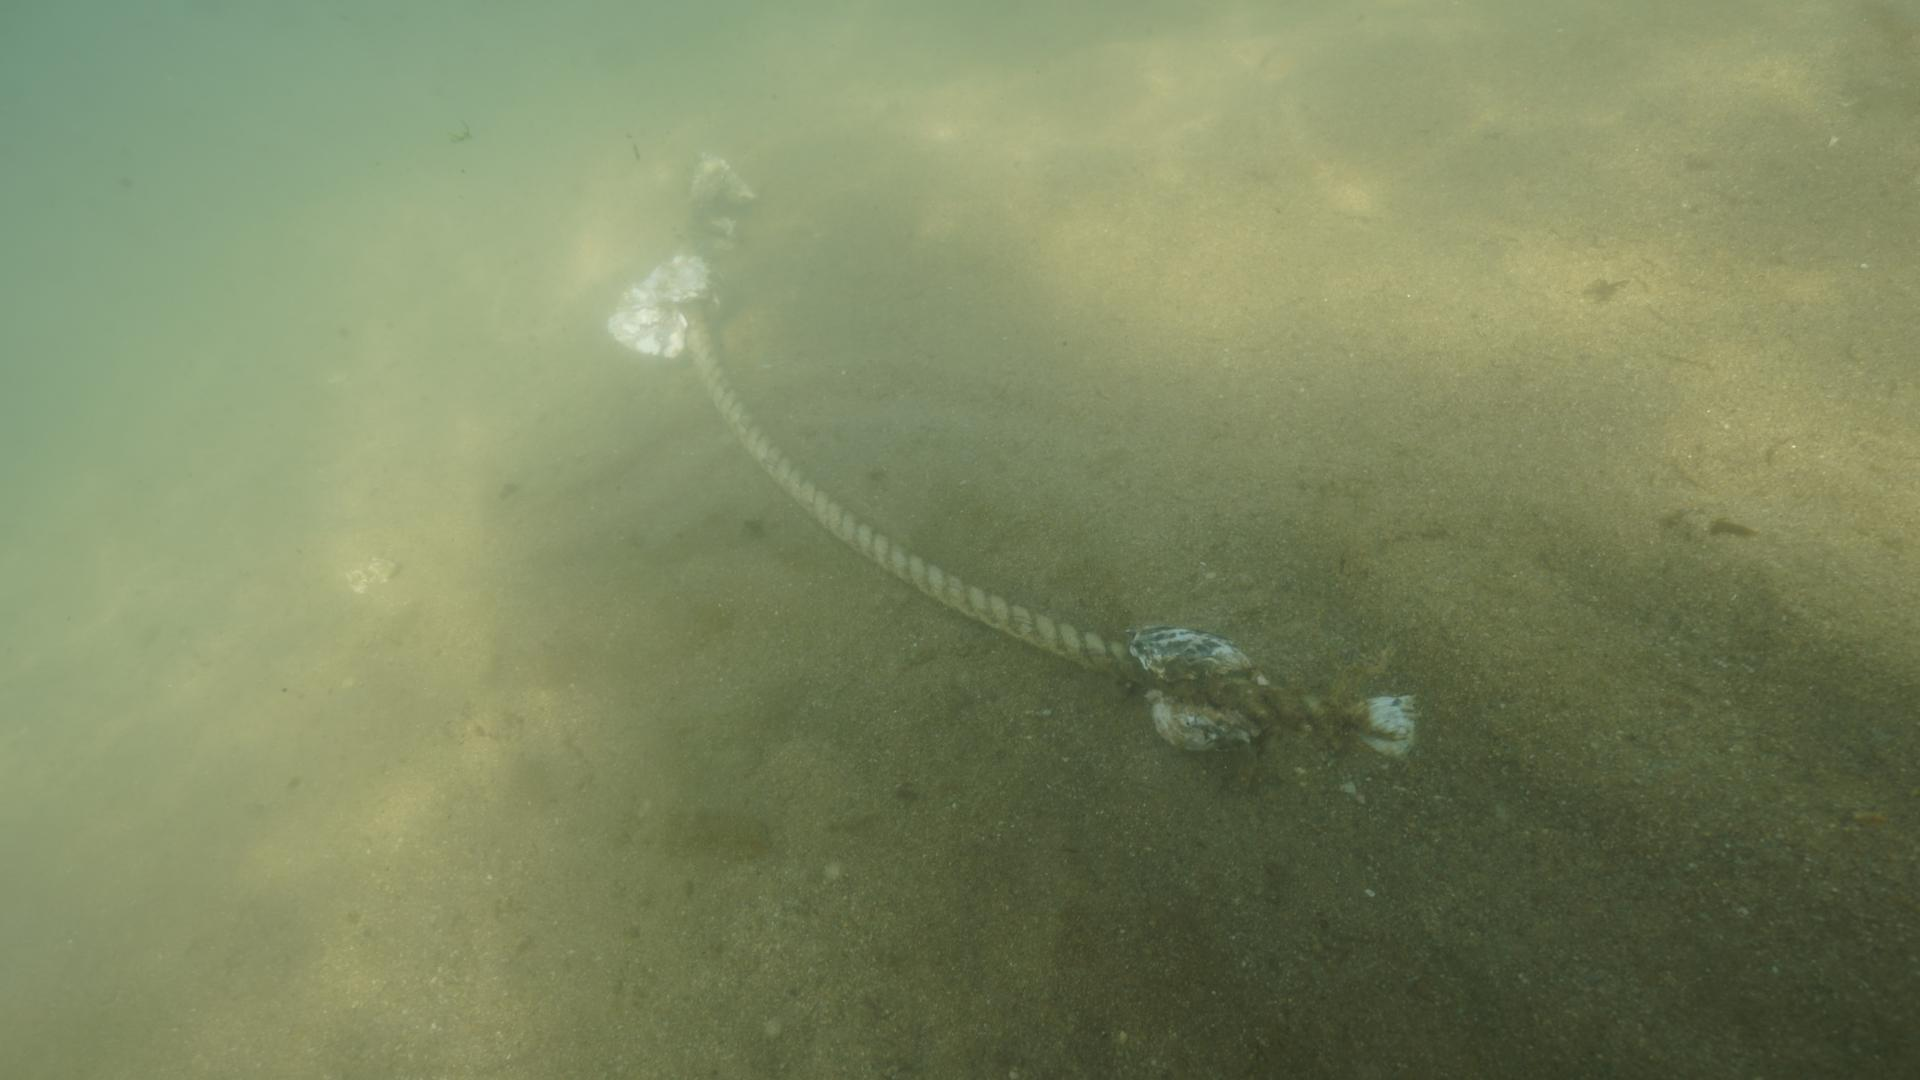rope: (673, 291, 1373, 746)
